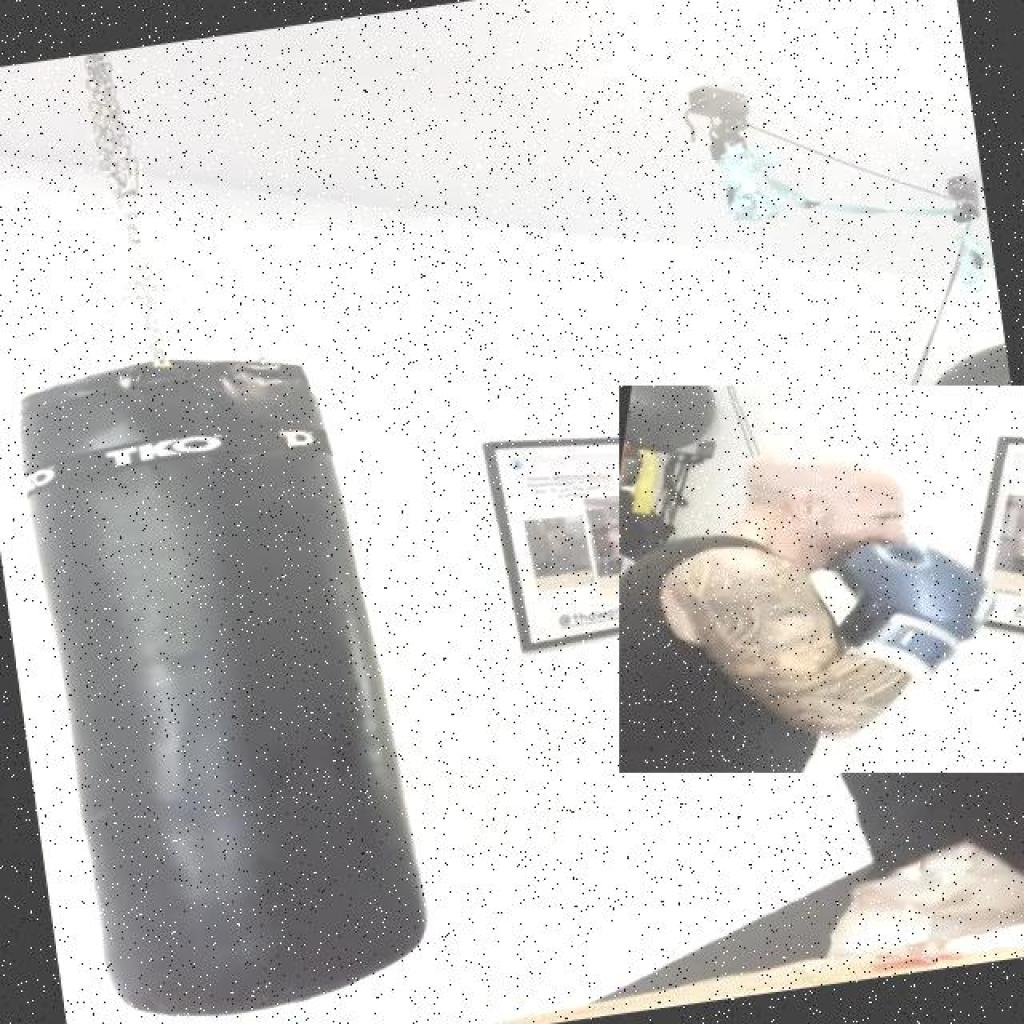bag: (0, 320, 461, 1024)
no punch: (619, 386, 1024, 772)
